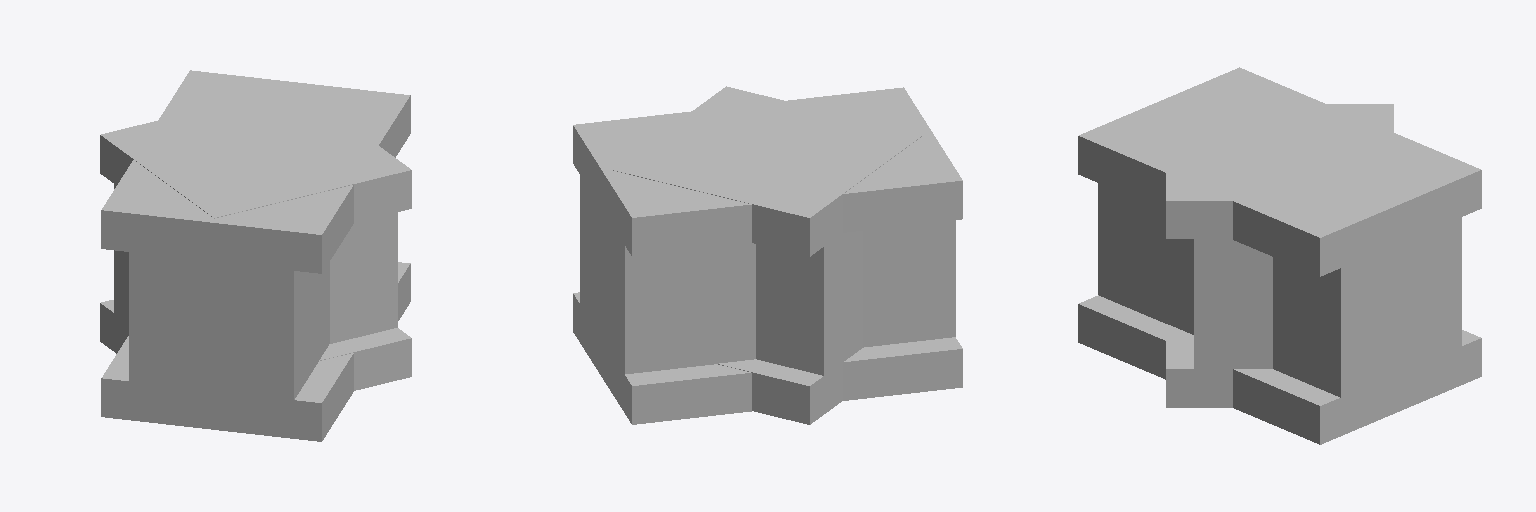
File: cross_d2_xo.obj
3 views of the same model, side by side, from view 1: azimuth 30°, elevation 25°; view 2: azimuth 150°, elevation 25°; view 3: azimuth 270°, elevation 25° (orthographic).
Parts seen in each view (by area): view 1: real_middle, diag; view 2: real_middle, diag; view 3: real_middle, diag.
Boxes of the visible parts, <box> form: real_middle: <box>101,70,410,441</box>; diag: <box>100,86,411,390</box>; real_middle: <box>573,87,962,424</box>; diag: <box>613,86,922,424</box>; real_middle: <box>1078,67,1481,444</box>; diag: <box>1166,104,1393,407</box>.
Size of the model in its own units: 1.77 by 1 by 1.77.